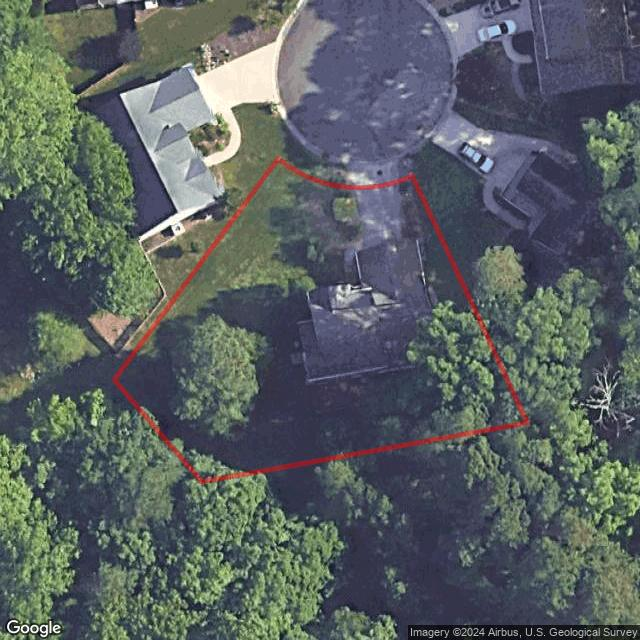Driveway: (352, 181, 407, 247)
Extra-Driveway: (348, 161, 400, 189)
Extra-Lawn: (279, 140, 351, 188)
House: (299, 241, 431, 382)
Lawn: (114, 159, 528, 481)
Sidewalk: (342, 239, 366, 283)
